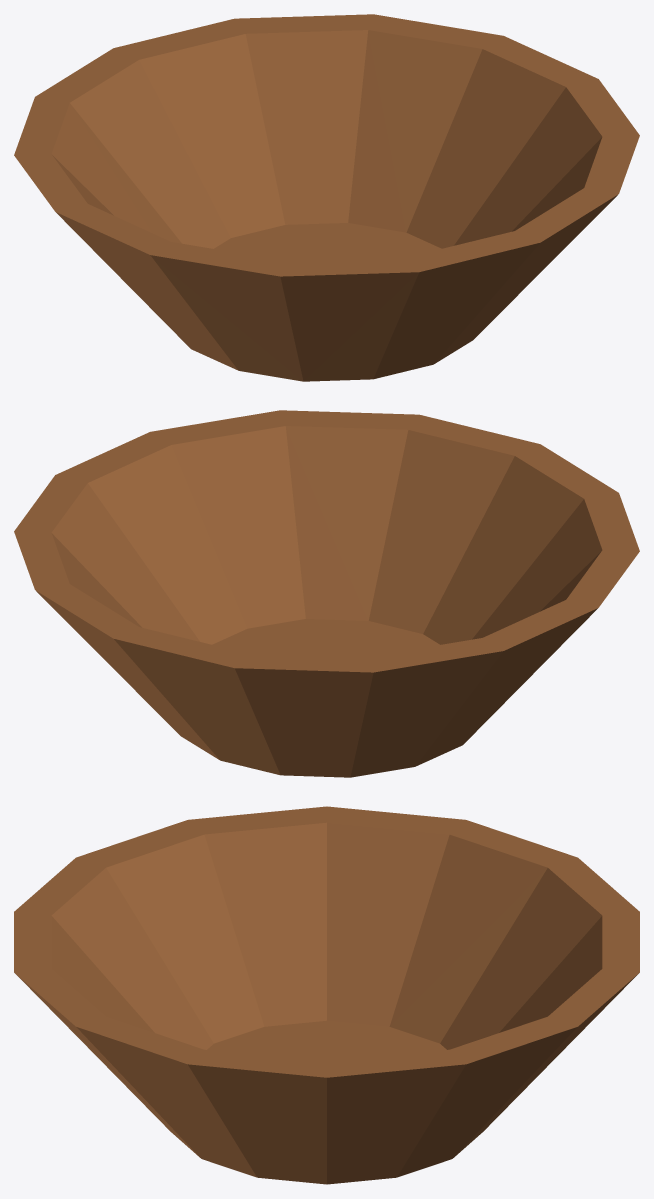
Rendered from wooden_bowl.obj.
The picture shows the model from 3 angles, top to bottom: view 1: azimuth 30°, elevation 25°; view 2: azimuth 150°, elevation 25°; view 3: azimuth 270°, elevation 25°; orthographic projection. The views are drawn at different scales.
Parts seen in each view (by area): view 1: wooden_bowl; view 2: wooden_bowl; view 3: wooden_bowl.
Part boxes in pixels (x1=…): wooden_bowl: x1=14, y1=14, x2=639, y2=381; wooden_bowl: x1=14, y1=410, x2=639, y2=777; wooden_bowl: x1=14, y1=806, x2=639, y2=1184.
Bounding box in the file's own units: 0.2 × 0.06 × 0.195.
